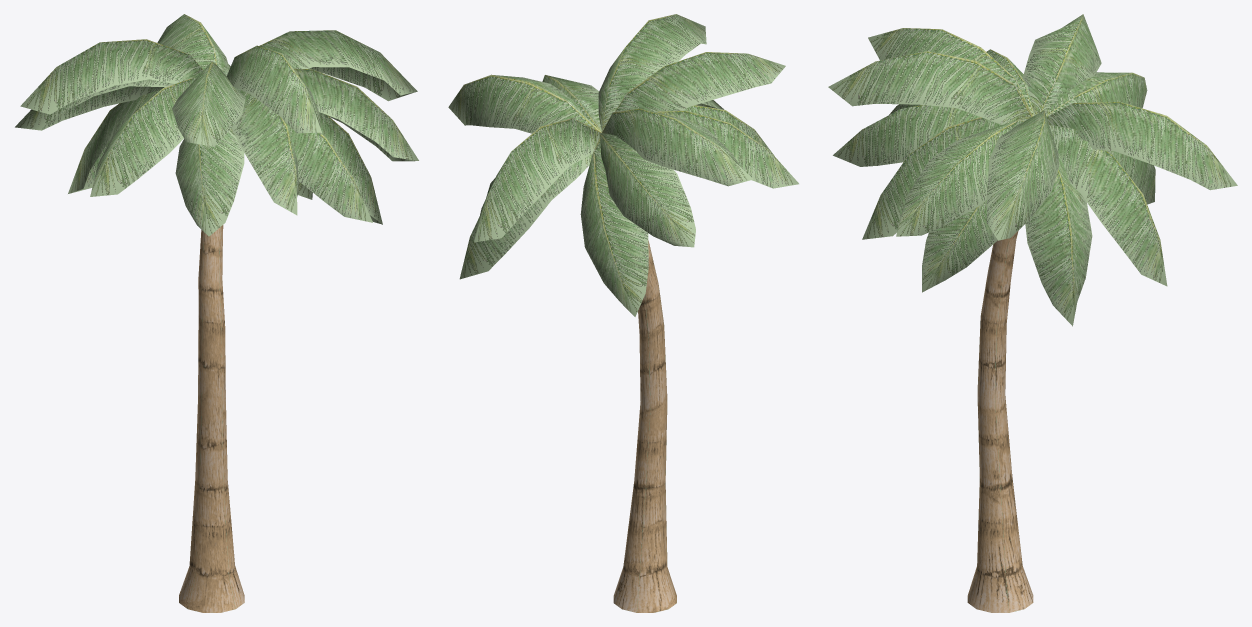
The model's file is palm.obj.
The picture shows the model from 3 angles, left to right: view 1: azimuth 30°, elevation 25°; view 2: azimuth 150°, elevation 25°; view 3: azimuth 270°, elevation 25°; orthographic projection. The views are drawn at different scales.
Visible parts, largest first — view 1: PalmTree-Trunk.001_palm_trunk.001; view 2: PalmTree-Trunk.001_palm_trunk.001; view 3: PalmTree-Trunk.001_palm_trunk.001.
Part boxes in pixels (x1,y1,x2,y2): PalmTree-Trunk.001_palm_trunk.001: [15, 14, 418, 612]; PalmTree-Trunk.001_palm_trunk.001: [448, 14, 798, 612]; PalmTree-Trunk.001_palm_trunk.001: [828, 14, 1237, 612].
Bounding box in the file's own units: 6.44 × 9.73 × 6.41.
Materials: 1 (1 with a texture image).
